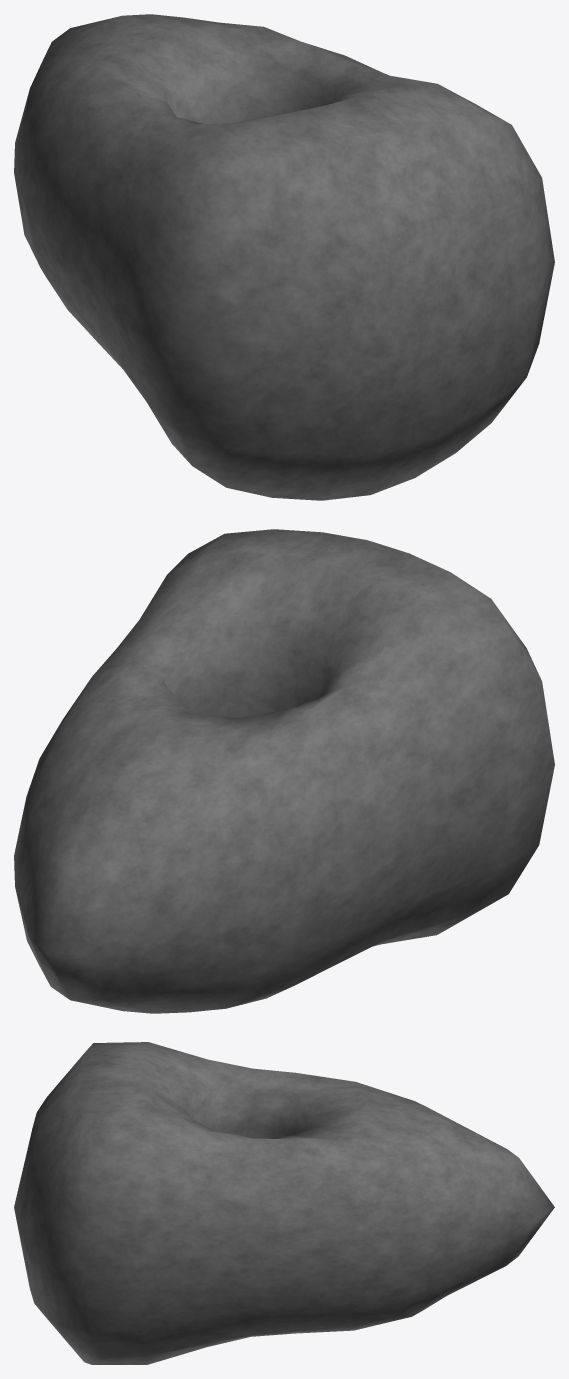
The model's file is MakeshiftHammerHead.fbx.
The picture shows the model from 3 angles, top to bottom: view 1: azimuth 30°, elevation 25°; view 2: azimuth 150°, elevation 25°; view 3: azimuth 270°, elevation 25°; orthographic projection. The views are drawn at different scales.
Parts seen in each view (by area): view 1: HammerHead; view 2: HammerHead; view 3: HammerHead.
Boxes of the visible parts, left/top/right/bottom form: HammerHead: left=14, top=14, right=554, bottom=500; HammerHead: left=14, top=529, right=554, bottom=1013; HammerHead: left=14, top=1042, right=554, bottom=1364.
Size of the model in its own units: 48.06 by 42.24 by 78.22.
Materials: 1 (1 with a texture image).
